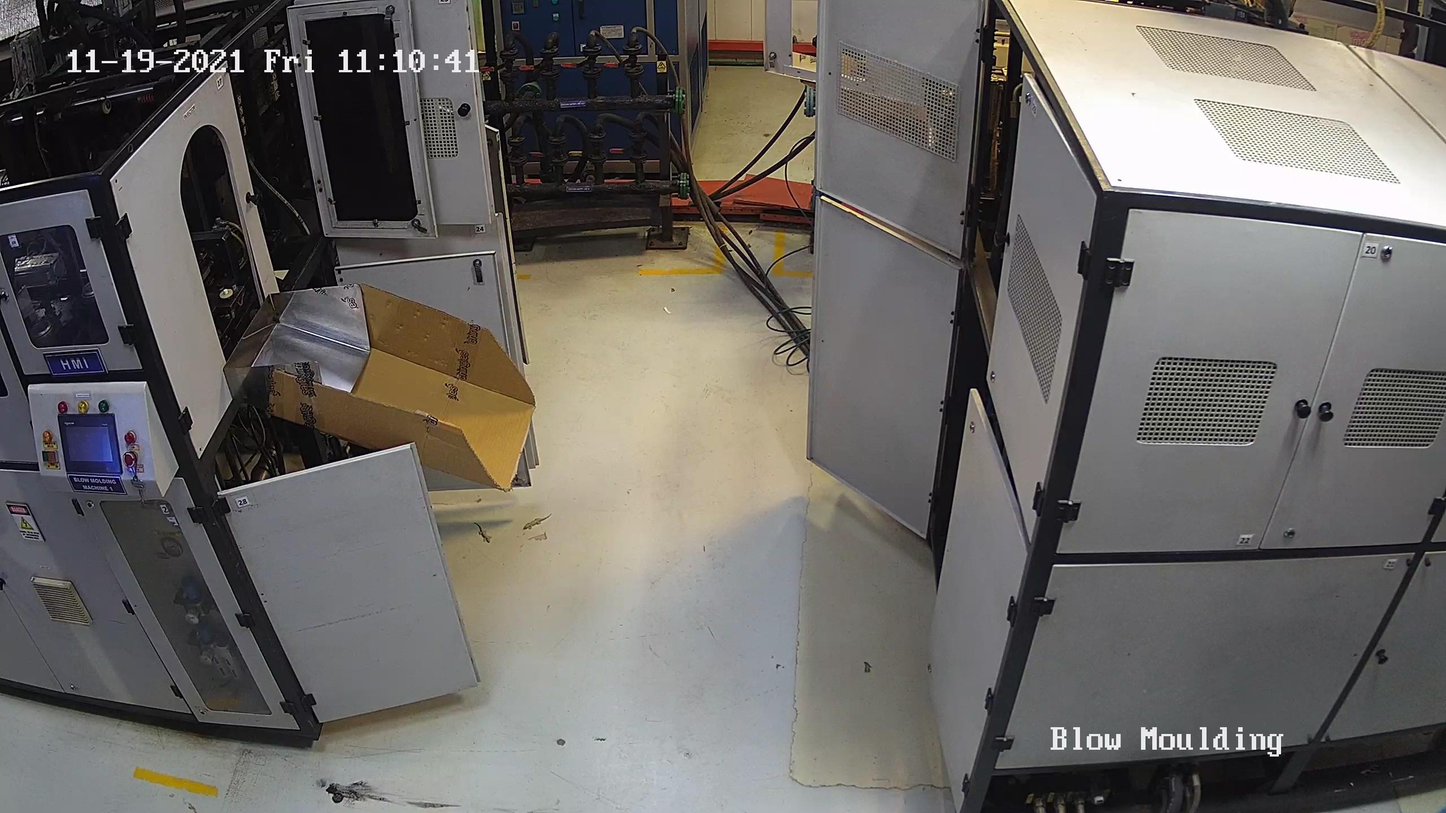lizard: (518, 509, 555, 536), (469, 516, 494, 547)
